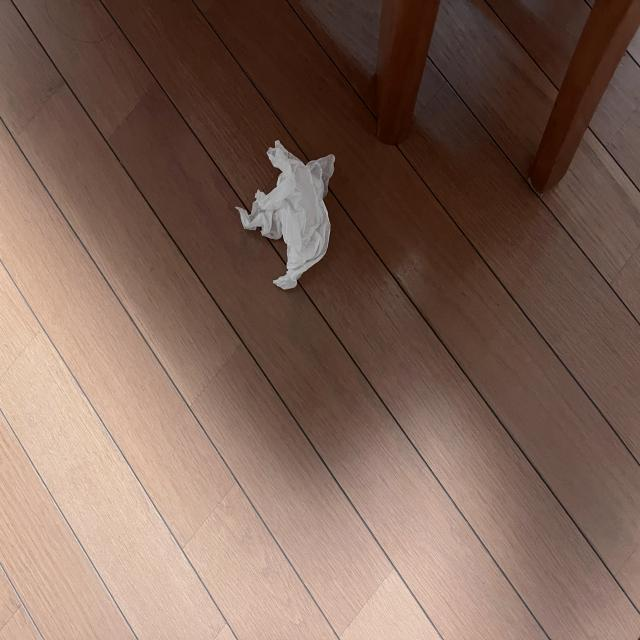Paper: (230, 131, 357, 304)
